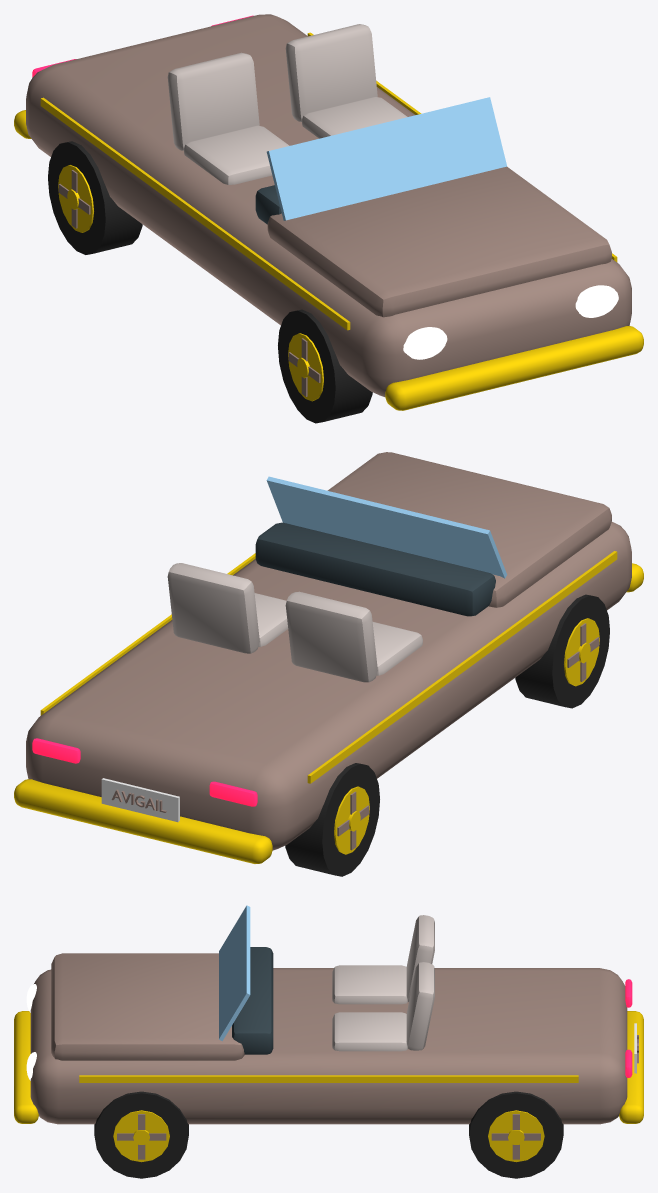
The model's file is journey_avigail_car.glb.
3 views of the same model, one above another, from view 1: azimuth 30°, elevation 25°; view 2: azimuth 150°, elevation 25°; view 3: azimuth 270°, elevation 25° (orthographic). The views are drawn at different scales.
Parts seen in each view (by area): view 1: AviCar_body, Wheel_FR.003, Wheel_RR.003; view 2: AviCar_body, Wheel_FR.003, Wheel_RR.003; view 3: AviCar_body, Wheel_FL.003, Wheel_RL.003.
Part boxes in pixels (x1,y1,x2,y2): AviCar_body: (14, 14, 643, 410); Wheel_FR.003: (278, 309, 372, 423); Wheel_RR.003: (48, 141, 142, 254); AviCar_body: (14, 452, 643, 863); Wheel_FR.003: (515, 594, 609, 708); Wheel_RR.003: (285, 763, 379, 876); AviCar_body: (14, 905, 643, 1124); Wheel_FL.003: (94, 1091, 188, 1178); Wheel_RL.003: (469, 1091, 563, 1178).
Size of the model in its own units: 1.92 by 1.39 by 4.54.
